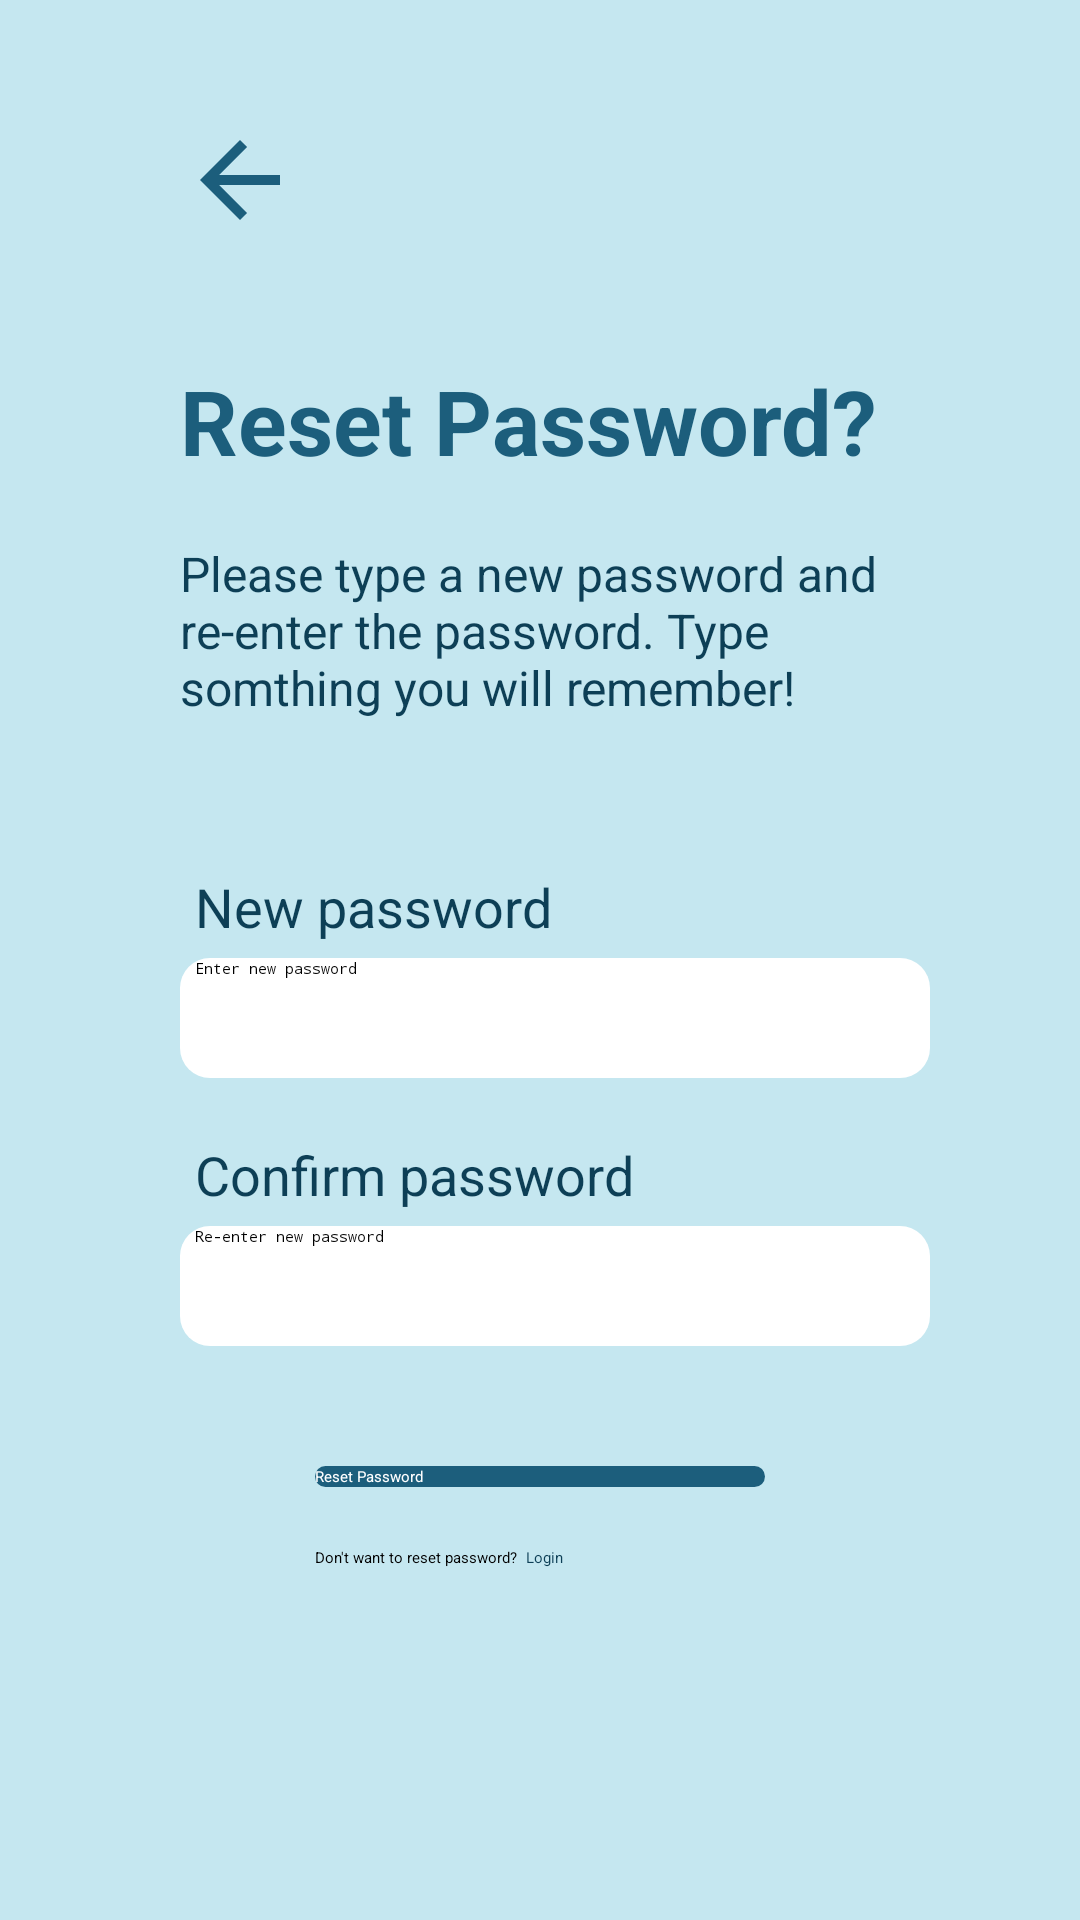

Named icons in this screenshot (1080w x 1920h) and their bounding boxes, (x1, y1, x2, y2):
backarrow: (200, 140, 280, 220)
